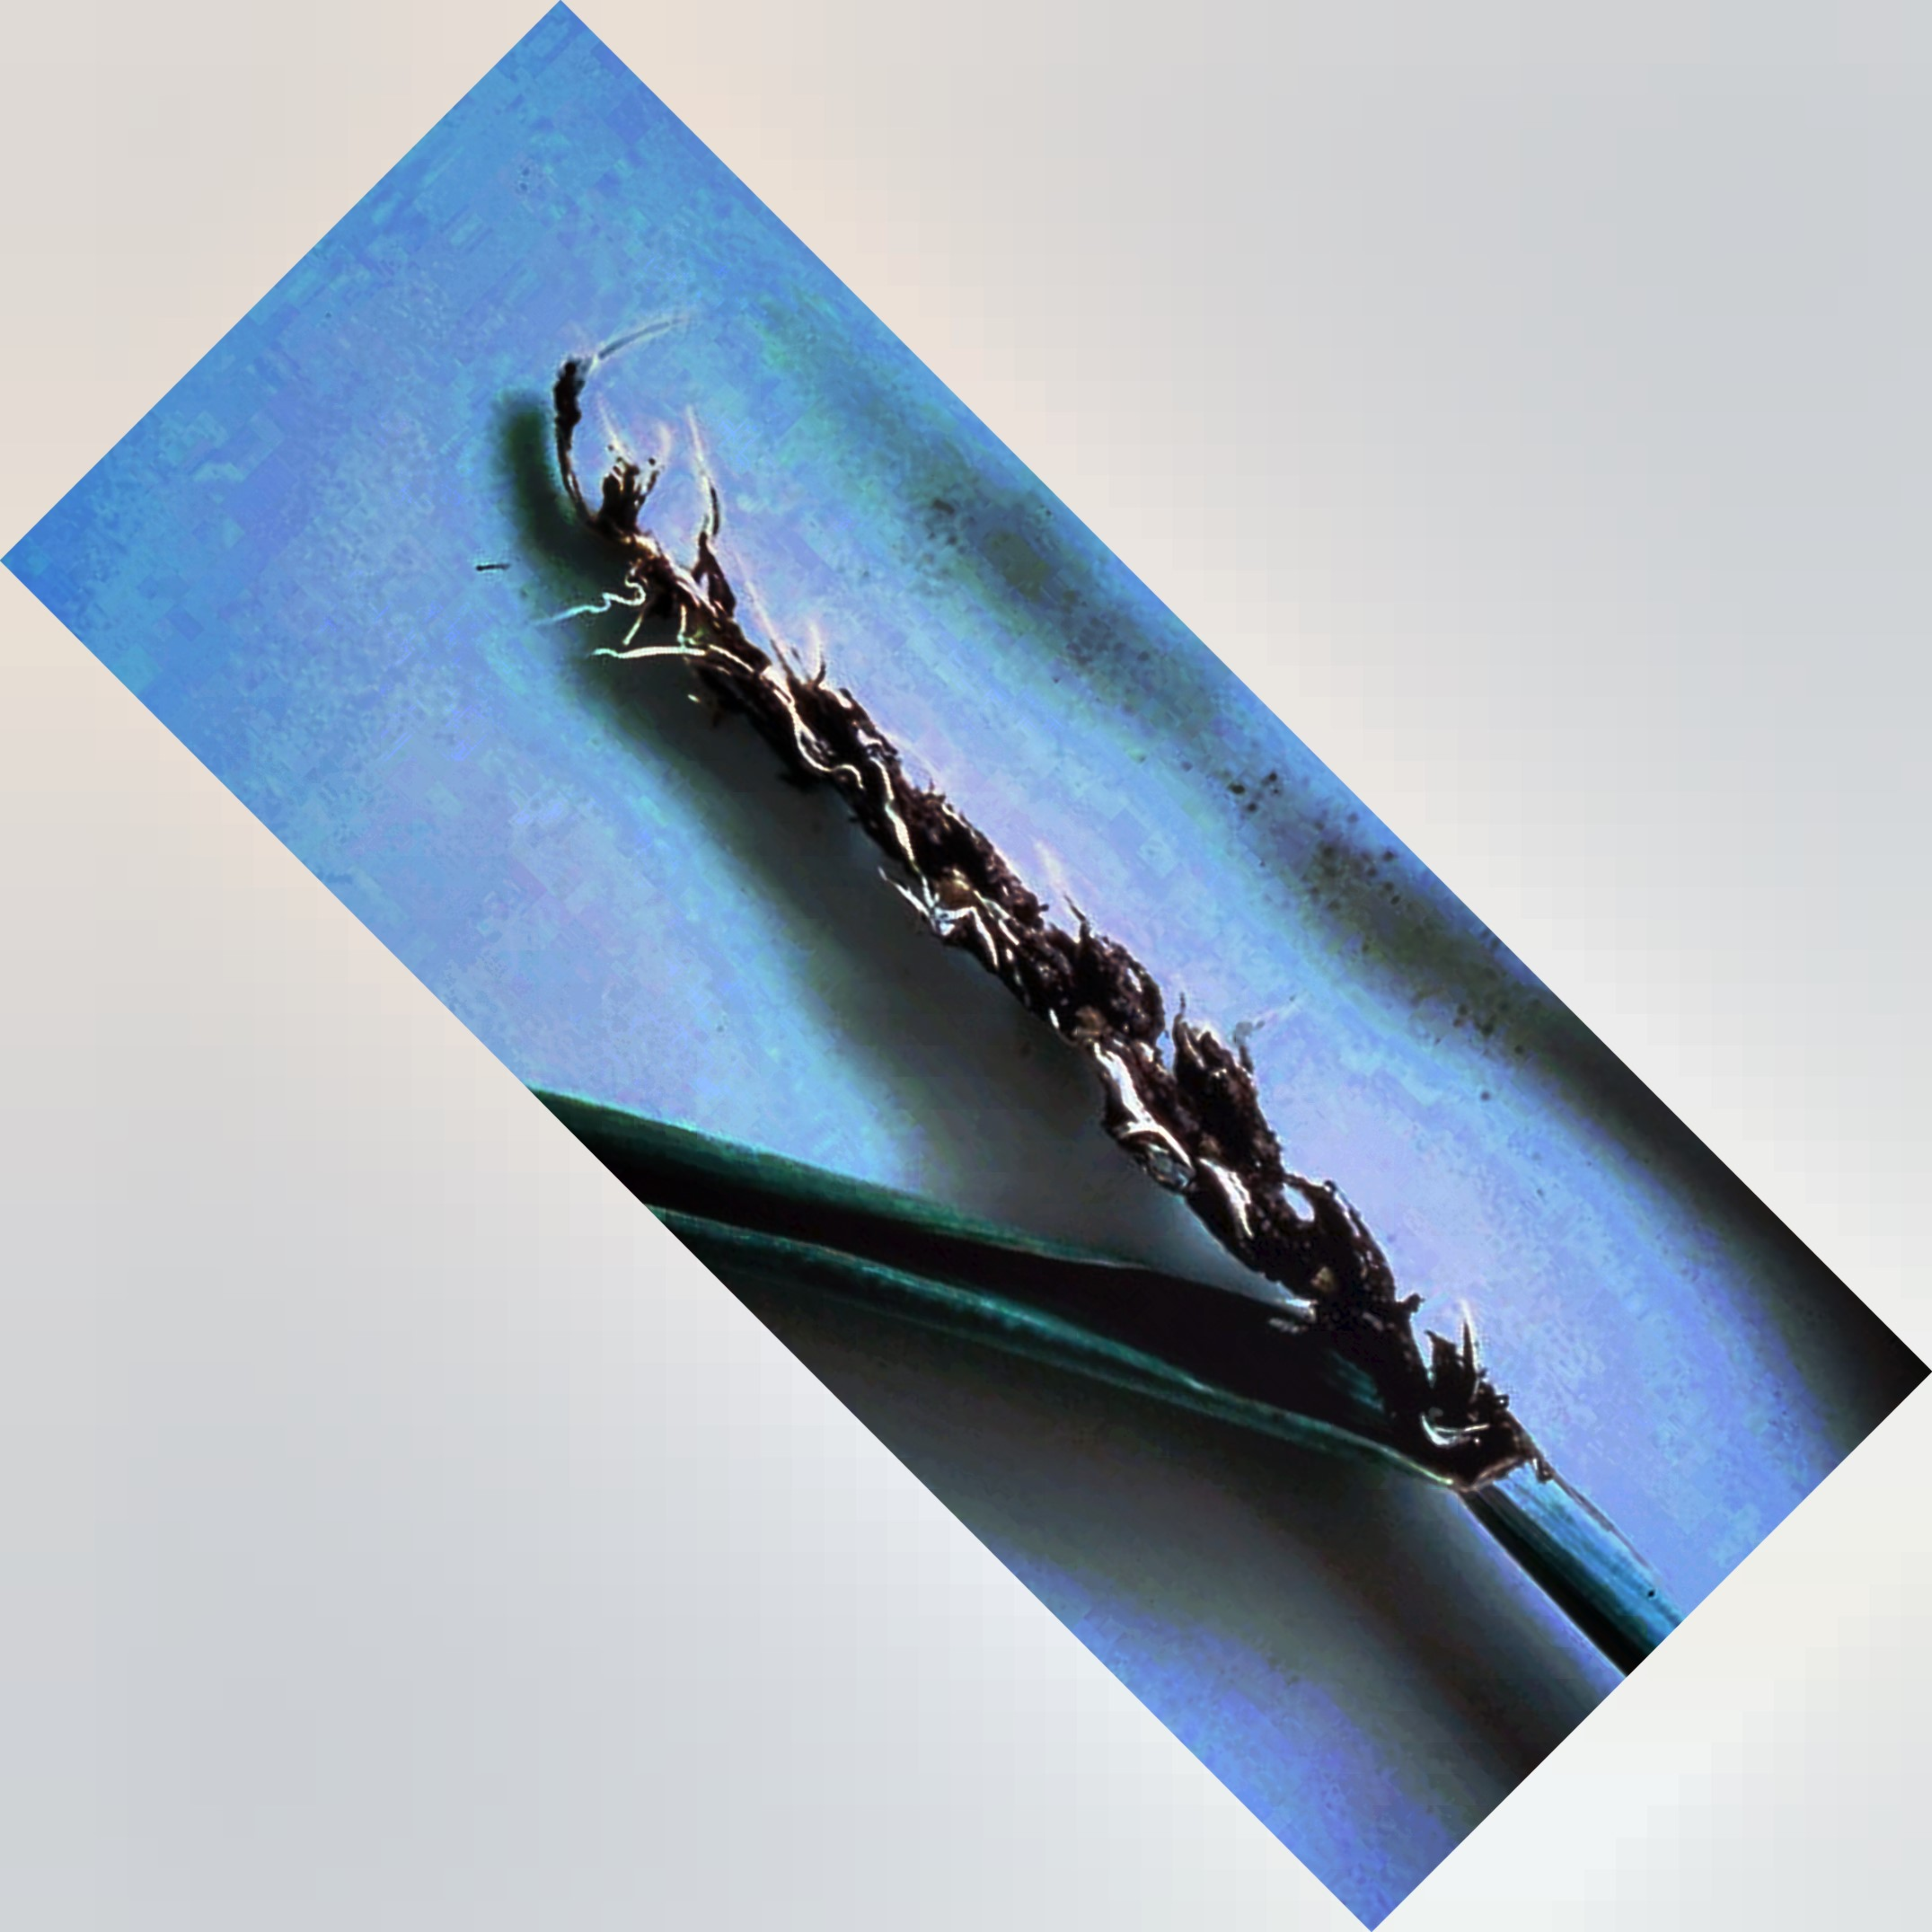Wheat Loose Smut: (525, 439, 1254, 1169)
